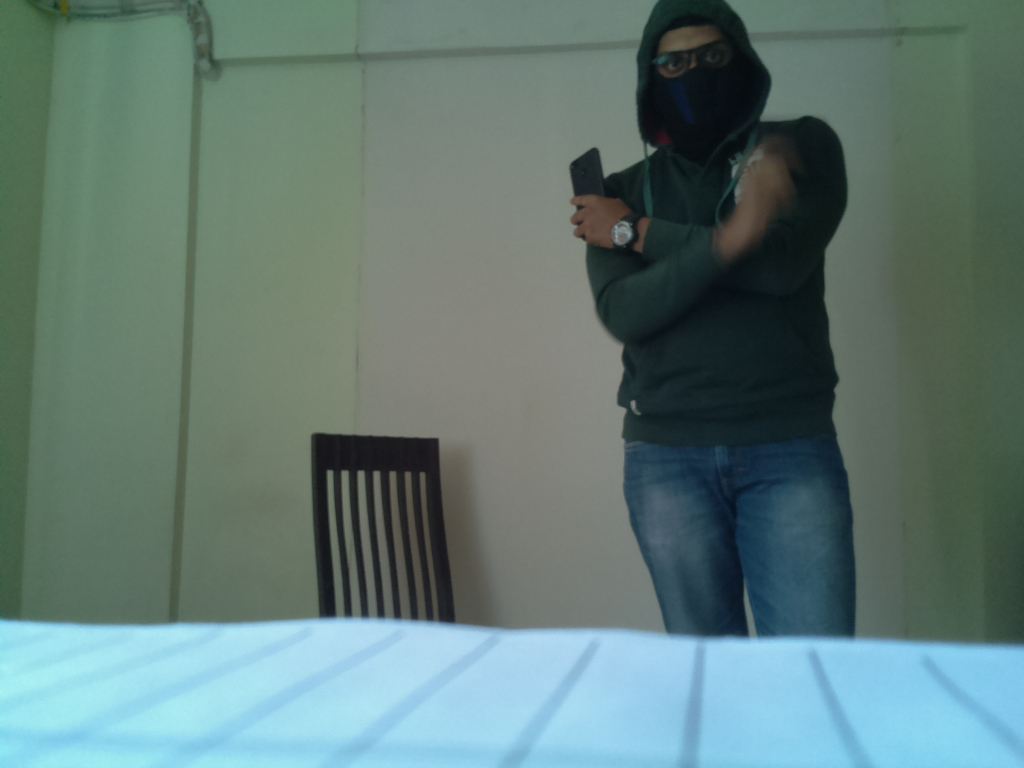none2: (563, 146, 609, 220), (612, 214, 642, 249)
